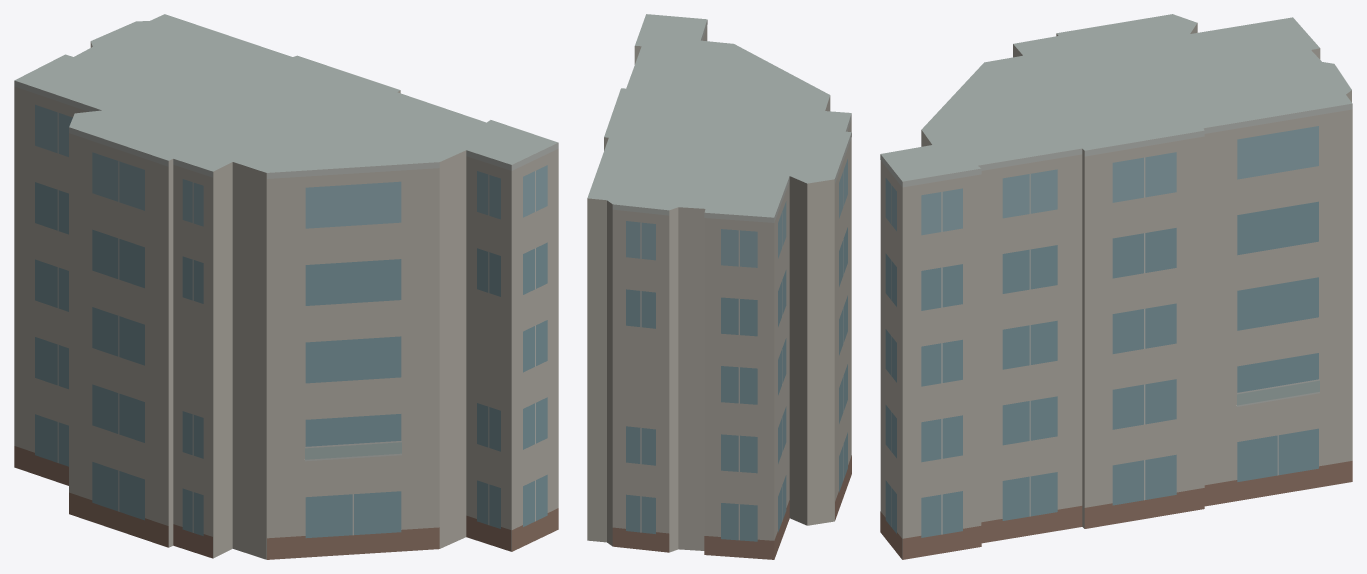
File: survey-upis-32492055.glb
3 renders of one model, left to right at view 1: azimuth 30°, elevation 25°; view 2: azimuth 150°, elevation 25°; view 3: azimuth 270°, elevation 25°, orthographic. The views are drawn at different scales.
Visible parts, largest first — view 1: survey-upis-32492055.tmp; view 2: survey-upis-32492055.tmp; view 3: survey-upis-32492055.tmp.
Boxes of the visible parts, bbox=[...] form: survey-upis-32492055.tmp: bbox=[14, 14, 558, 559]; survey-upis-32492055.tmp: bbox=[587, 14, 851, 559]; survey-upis-32492055.tmp: bbox=[880, 14, 1352, 559].
Size of the model in its own units: 15.02 by 15.8 by 17.88.
